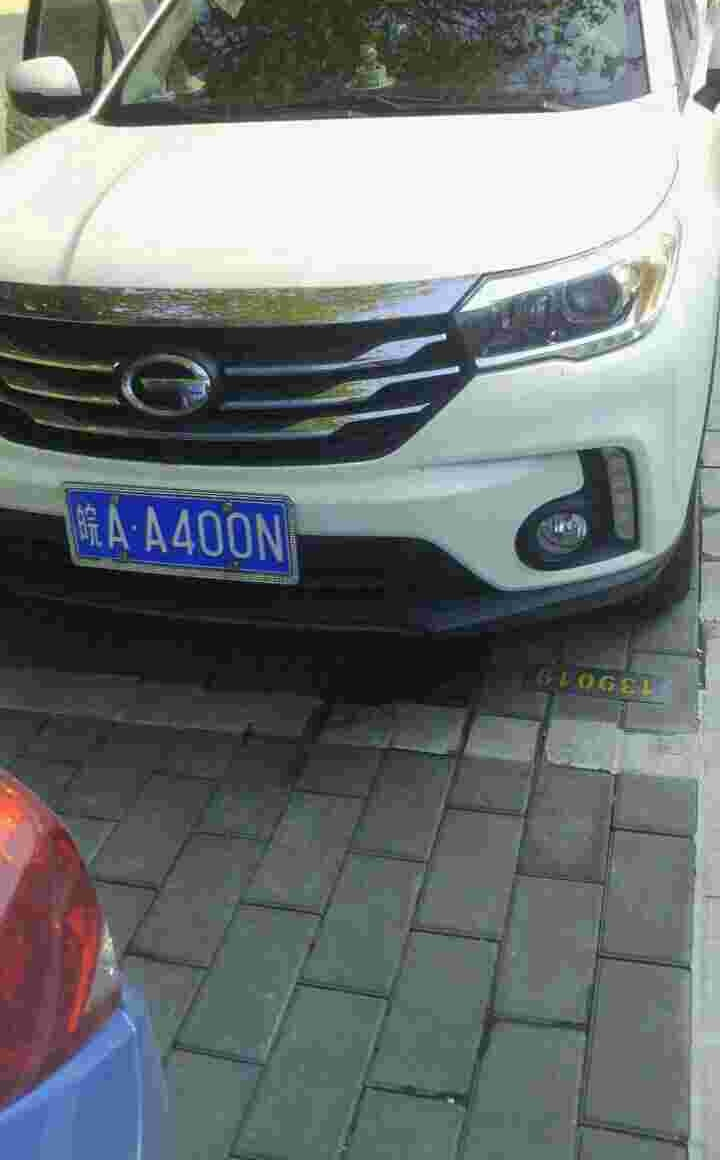plate: (74, 483, 287, 578)
